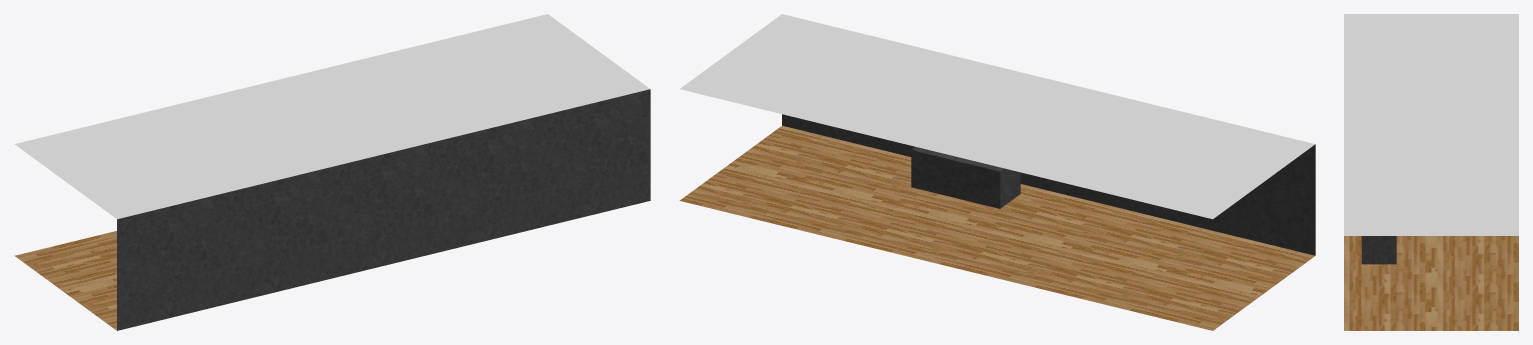
The model's file is Room.fbx.
3 renders of one model, left to right at view 1: azimuth 30°, elevation 25°; view 2: azimuth 150°, elevation 25°; view 3: azimuth 270°, elevation 25°, orthographic. The views are drawn at different scales.
Visible parts, largest first — view 1: Wall, Top, Floor; view 2: Top, Floor, Wall, Table; view 3: Top, Floor, Table.
Boxes of the visible parts, x1,y1,x2,y2 form: Wall: (117, 89, 650, 330); Top: (14, 14, 650, 219); Floor: (14, 231, 116, 330); Top: (679, 14, 1315, 219); Floor: (679, 125, 1315, 330); Wall: (782, 114, 1315, 255); Table: (911, 147, 1020, 208); Top: (1344, 14, 1518, 235); Floor: (1344, 236, 1518, 330); Table: (1361, 236, 1396, 264).
Size of the model in its own units: 15 by 3 by 5.
